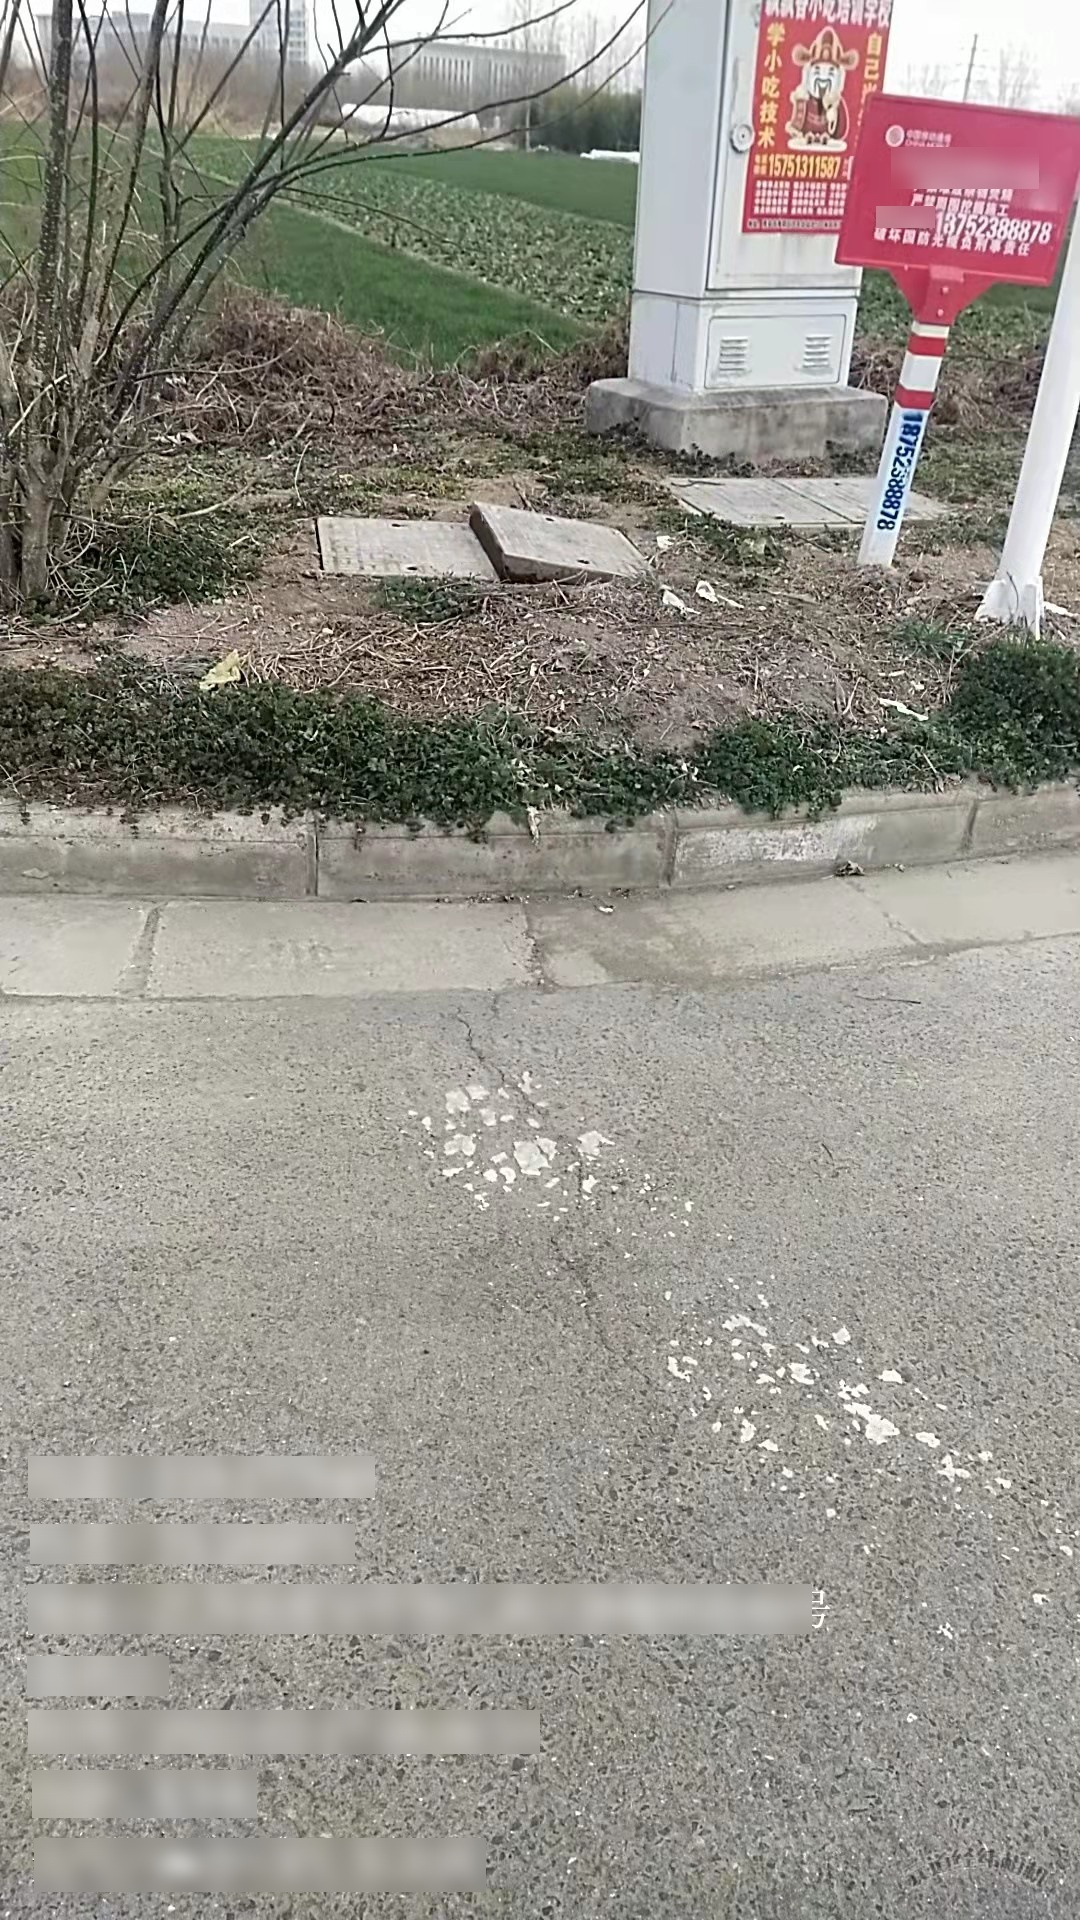uncovered: (307, 496, 659, 600)
